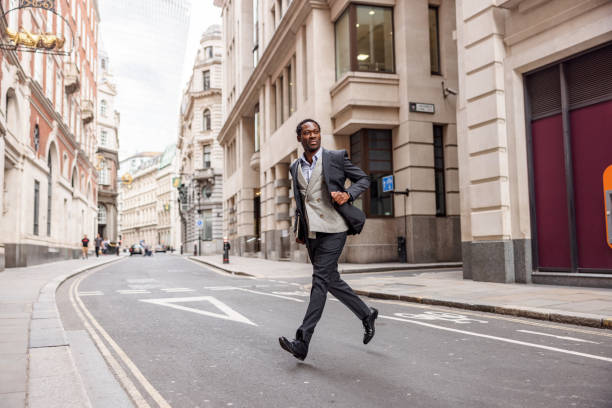yaya: (259, 95, 408, 388)
